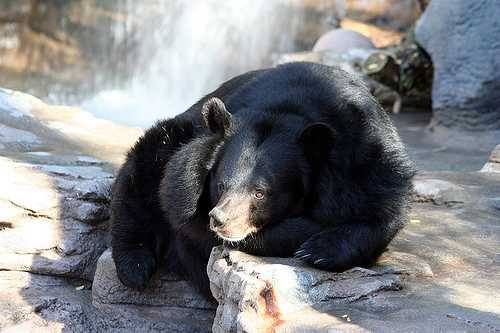bear: (194, 117, 322, 245)
